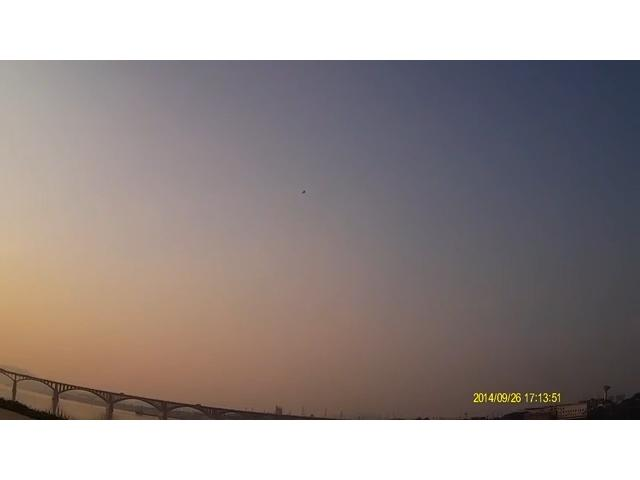Anti-Drone: (292, 184, 314, 204)
